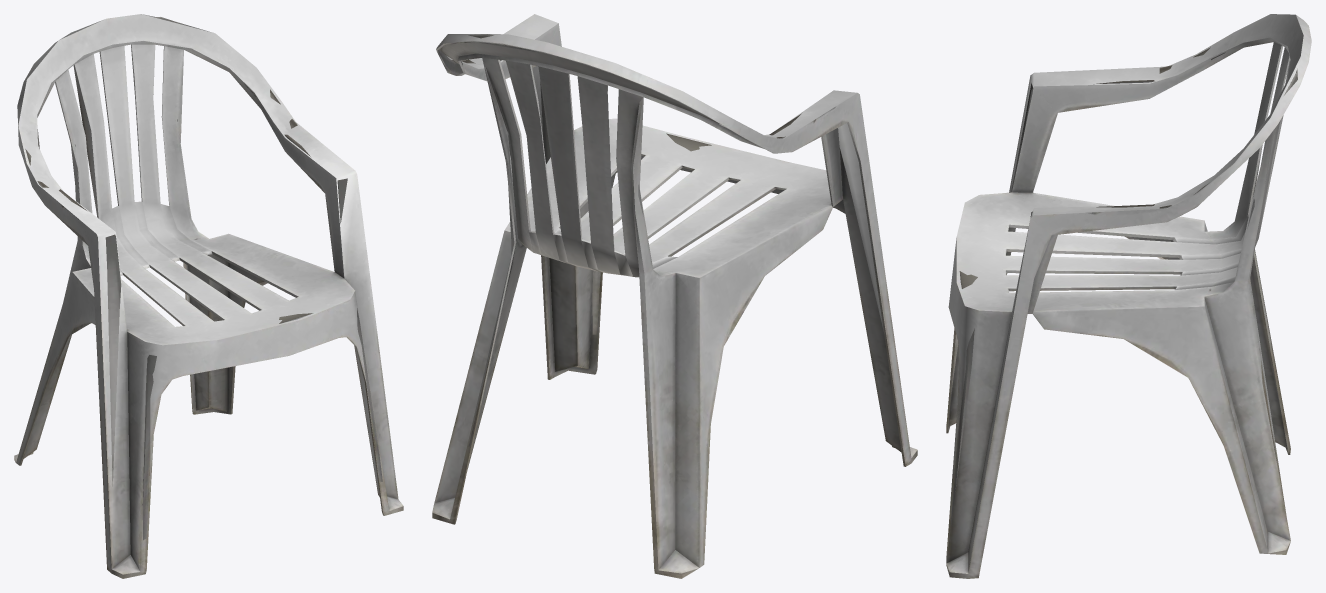
Rendered from beach-chair-0-far.glb.
3 views of the same model, side by side, from view 1: azimuth 30°, elevation 25°; view 2: azimuth 150°, elevation 25°; view 3: azimuth 270°, elevation 25° (orthographic). The views are drawn at different scales.
Parts seen in each view (by area): view 1: plastic_monobloc_chair_01; view 2: plastic_monobloc_chair_01; view 3: plastic_monobloc_chair_01.
Part boxes in pixels (x1,y1,x2,y2): plastic_monobloc_chair_01: (14,14,403,578); plastic_monobloc_chair_01: (432,14,917,578); plastic_monobloc_chair_01: (946,14,1311,578).
Size of the model in its own units: 0.72 by 0.9869 by 0.704.
1 material, 1 textured.
